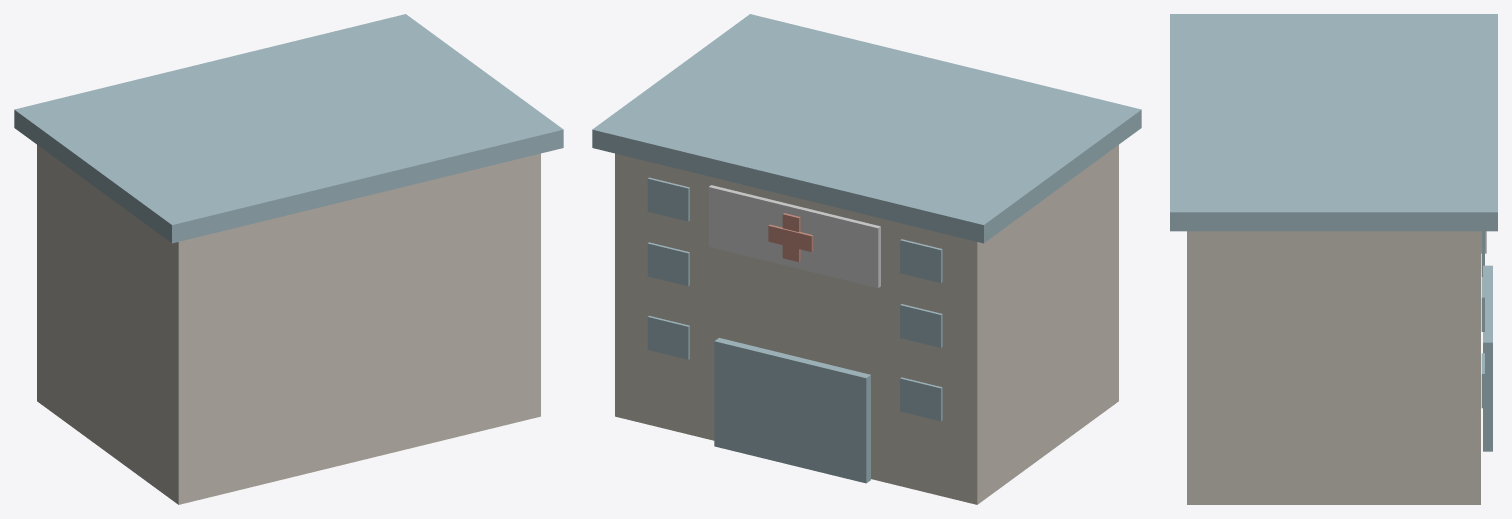
The model's file is building_hospital.glb.
3 renders of one model, left to right at view 1: azimuth 30°, elevation 25°; view 2: azimuth 150°, elevation 25°; view 3: azimuth 270°, elevation 25°, orthographic. The views are drawn at different scales.
Parts seen in each view (by area): view 1: 000_hospital, 001_roof; view 2: 000_hospital, 001_roof, 002_entry, 003_signboard, 010_window_1.08_1.36, 006_window_-1.08_0.76, 007_window_-1.08_1.36, 011_window_1.08_1.89, 008_window_-1.08_1.89, 009_window_1.08_0.76, 005_cross_horizontal; view 3: 000_hospital, 001_roof, 002_entry.
Part boxes in pixels (left/top/right/bottom): 000_hospital: left=37, top=145, right=540, bottom=504; 001_roof: left=14, top=14, right=563, bottom=243; 000_hospital: left=615, top=145, right=1118, bottom=504; 001_roof: left=592, top=14, right=1141, bottom=243; 002_entry: left=714, top=338, right=870, bottom=483; 003_signboard: left=708, top=185, right=880, bottom=287; 010_window_1.08_1.36: left=647, top=242, right=689, bottom=286; 006_window_-1.08_0.76: left=900, top=377, right=942, bottom=421; 007_window_-1.08_1.36: left=900, top=304, right=942, bottom=347; 011_window_1.08_1.89: left=647, top=177, right=689, bottom=221; 008_window_-1.08_1.89: left=900, top=239, right=942, bottom=282; 009_window_1.08_0.76: left=647, top=315, right=689, bottom=359; 005_cross_horizontal: left=768, top=224, right=813, bottom=251; 000_hospital: left=1187, top=231, right=1480, bottom=504; 001_roof: left=1170, top=14, right=1497, bottom=231; 002_entry: left=1483, top=265, right=1492, bottom=451.
Size of the model in its own units: 3.35 by 2.37 by 2.34.
